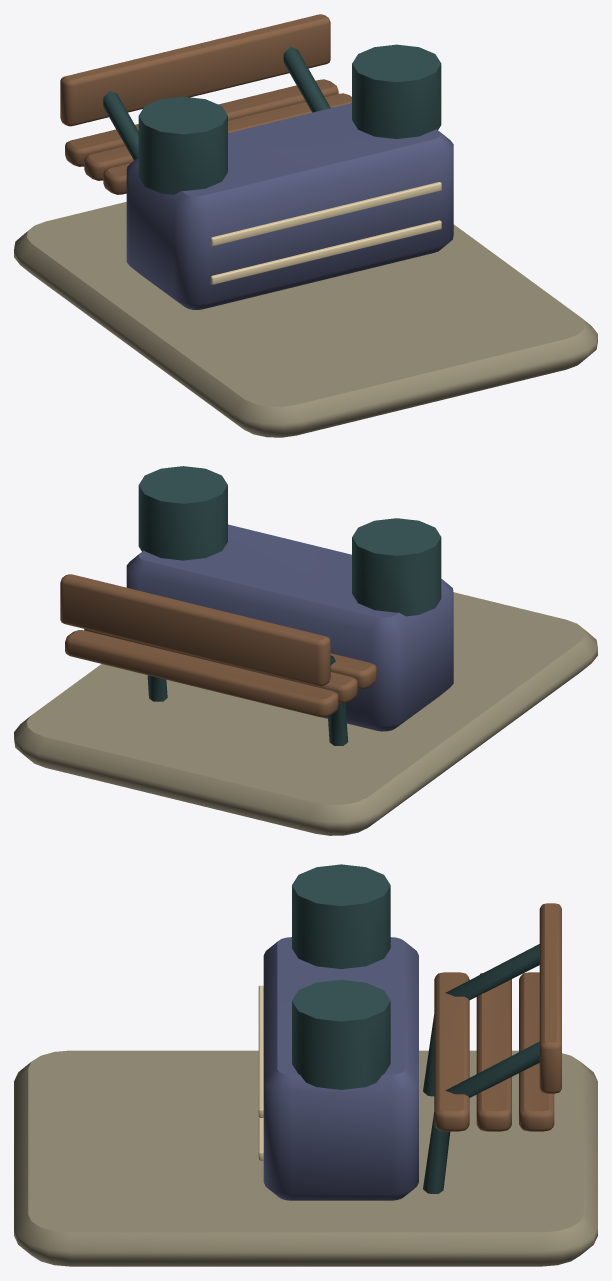
The model's file is japan_tuning_1.glb.
3 renders of one model, top to bottom at view 1: azimuth 30°, elevation 25°; view 2: azimuth 150°, elevation 25°; view 3: azimuth 270°, elevation 25°, orthographic. The views are drawn at different scales.
Visible parts, largest first — view 1: JapanTuning1; view 2: JapanTuning1; view 3: JapanTuning1.
Boxes of the visible parts, <box> form: JapanTuning1: <box>14,14,597,437</box>; JapanTuning1: <box>14,466,597,835</box>; JapanTuning1: <box>14,864,597,1266</box>.
Bounding box in the file's own units: 1.95 × 1.09 × 2.48.
